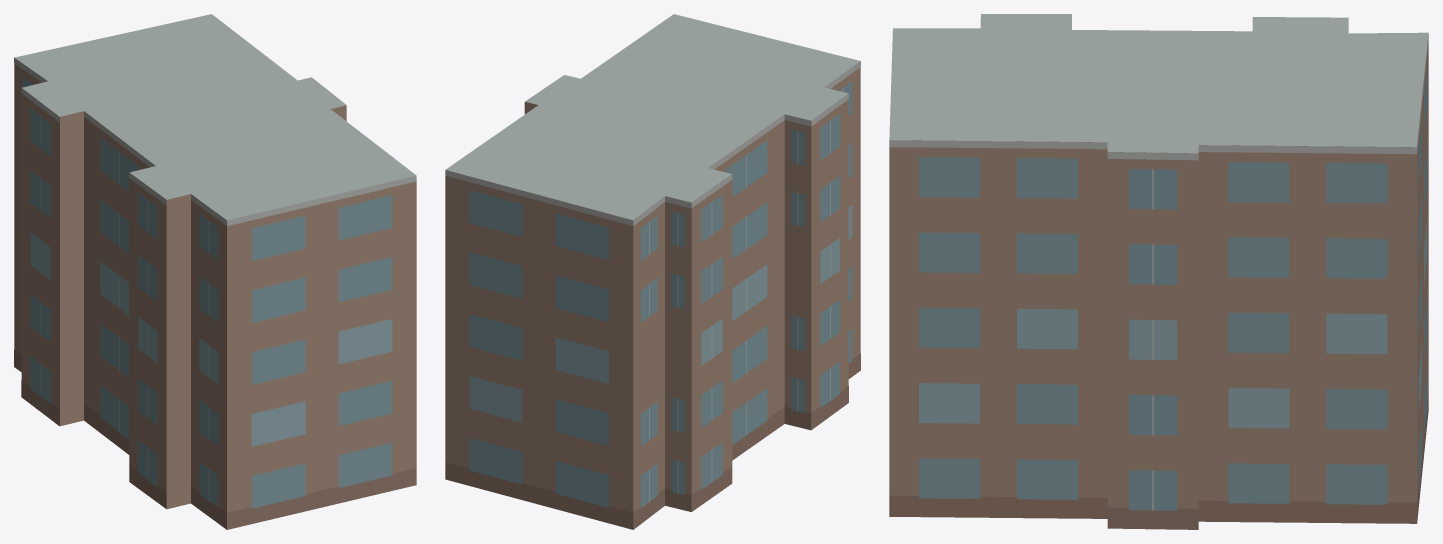
The model's file is survey-upis-32568027.glb.
3 views of the same model, side by side, from view 1: azimuth 30°, elevation 25°; view 2: azimuth 150°, elevation 25°; view 3: azimuth 270°, elevation 25° (orthographic). The views are drawn at different scales.
Parts seen in each view (by area): view 1: survey-upis-32568027.tmp; view 2: survey-upis-32568027.tmp; view 3: survey-upis-32568027.tmp.
Part boxes in pixels (x1,y1,x2,y2): survey-upis-32568027.tmp: (14, 14, 416, 529); survey-upis-32568027.tmp: (445, 14, 860, 529); survey-upis-32568027.tmp: (889, 14, 1428, 529).
Size of the model in its own units: 10.4 by 13.1 by 17.01.
